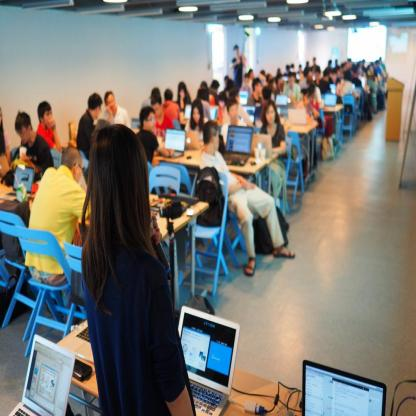board: (175, 304, 241, 416), (7, 334, 75, 416), (302, 360, 385, 416), (223, 126, 252, 166), (0, 164, 34, 198), (165, 128, 186, 158), (252, 135, 272, 157), (288, 106, 311, 124), (238, 105, 256, 125), (186, 130, 204, 149), (321, 93, 338, 108), (236, 88, 248, 104), (275, 92, 288, 106), (210, 106, 219, 120)
